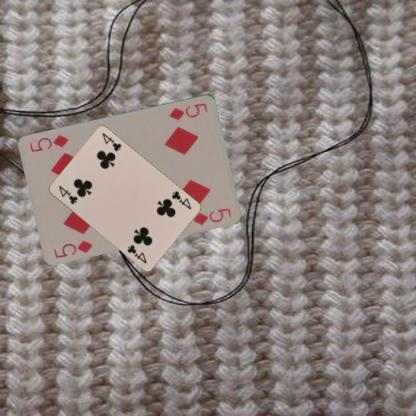4c: (169, 188, 192, 211), (56, 182, 78, 206)
5d: (51, 237, 94, 259), (166, 100, 210, 121)
